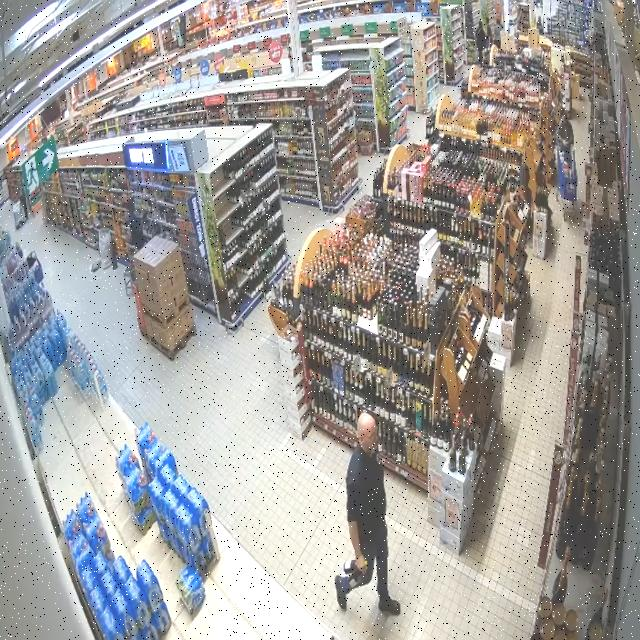article: (348, 571, 362, 590), (344, 559, 358, 574)
hands: (356, 555, 366, 573), (560, 139, 565, 146)
person: (335, 413, 400, 615), (556, 109, 574, 157), (129, 198, 145, 250)
